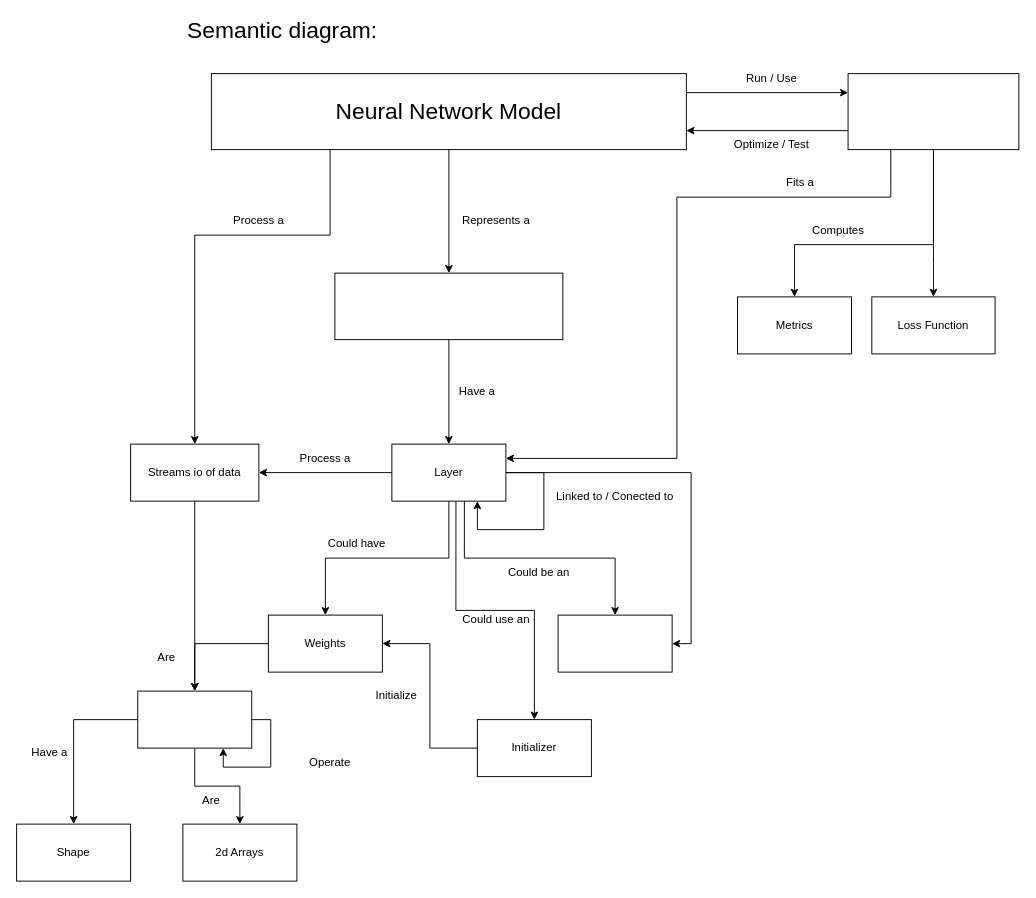
Some shapes in this 1036 by 898 pixel diagram are drawn without their labels. The centre of each missing label's shape, as x and y in pixels:
Activation Function: (x=614, y=643)
Collection of Layers: (x=448, y=306)
Matrices: (x=194, y=719)
Optimizer: (x=933, y=111)
